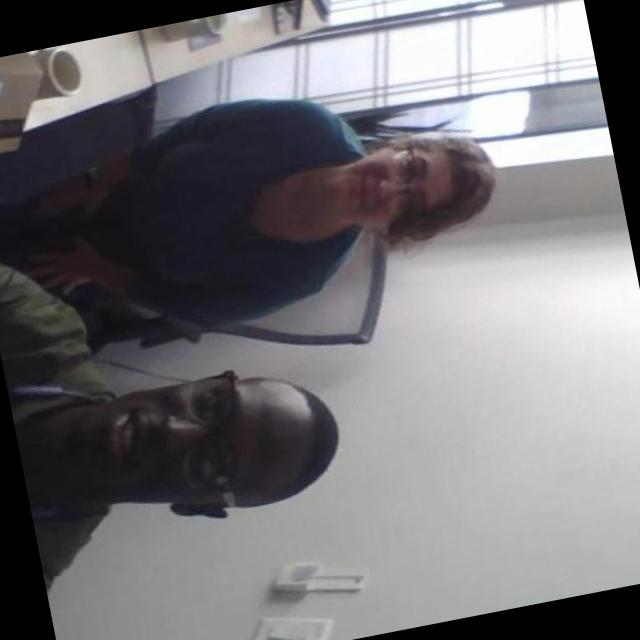bareface: (62, 348, 345, 542), (326, 122, 514, 245)
